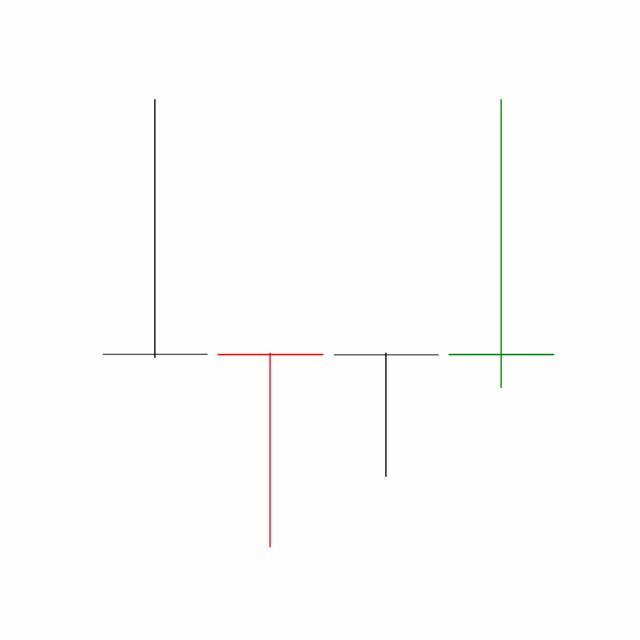Dragonfly Doji: (329, 352, 445, 479)
